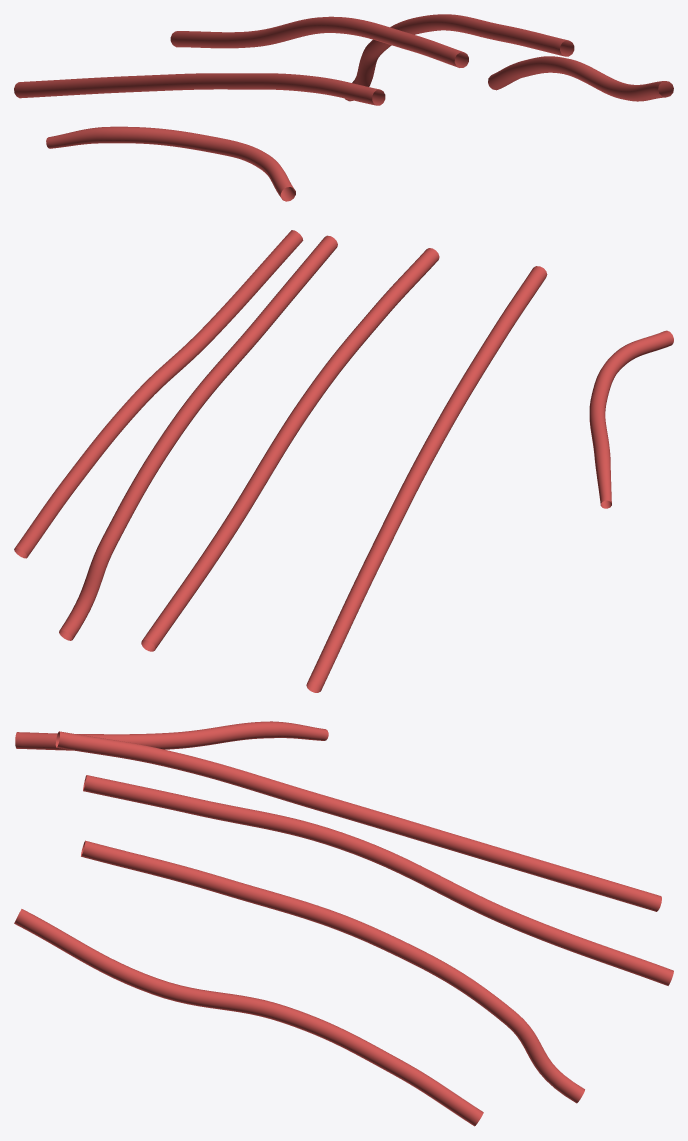
3 renders of one model, top to bottom at view 1: azimuth 30°, elevation 25°; view 2: azimuth 150°, elevation 25°; view 3: azimuth 270°, elevation 25°, orthographic. The views are drawn at different scales.
Parts seen in each view (by area): view 1: 右侧掌背动脉; view 2: 右侧掌背动脉; view 3: 右侧掌背动脉.
Boxes of the visible parts, left/top/right/bottom form: 右侧掌背动脉: left=14, top=14, right=673, bottom=201; 右侧掌背动脉: left=14, top=230, right=673, bottom=692; 右侧掌背动脉: left=14, top=721, right=673, bottom=1126.
Size of the model in its own units: 0.0929 by 0.0427 by 0.0976.
